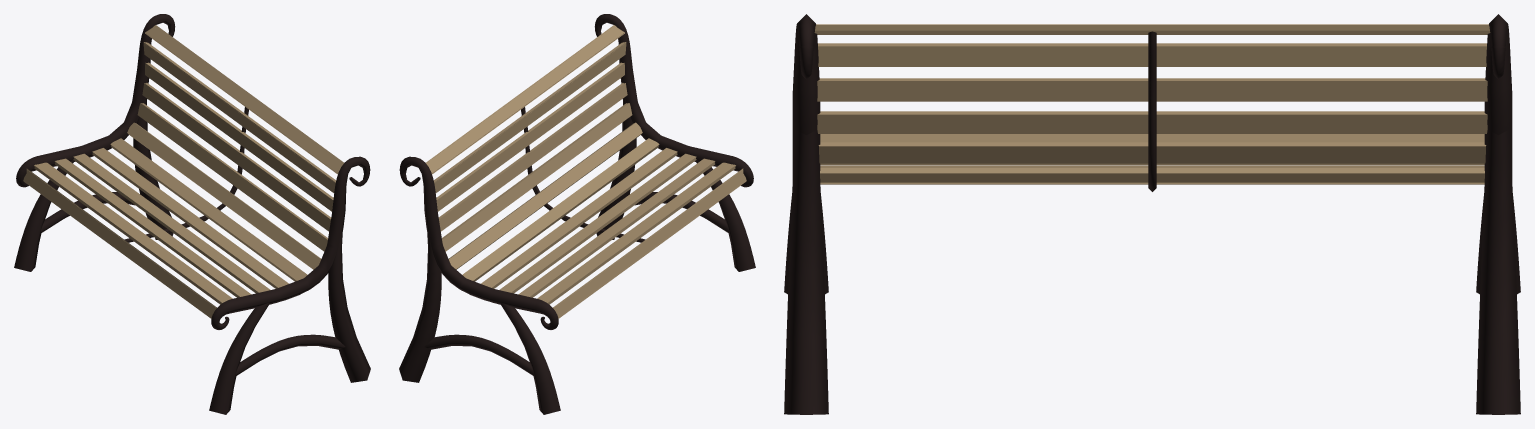
The model's file is bench.glb.
3 views of the same model, side by side, from view 1: azimuth 30°, elevation 25°; view 2: azimuth 150°, elevation 25°; view 3: azimuth 270°, elevation 25° (orthographic). The views are drawn at different scales.
Visible parts, largest first — view 1: parkBench.001, parkBench, Cube.001, BezierCurve.010; view 2: parkBench.001, parkBench, Cube.001; view 3: parkBench.001, parkBench, BezierCurve.010.
Boxes of the visible parts, left/top/right/bottom form: parkBench.001: left=16, top=17, right=370, bottom=414; parkBench: left=14, top=14, right=370, bottom=414; Cube.001: left=34, top=162, right=231, bottom=304; BezierCurve.010: left=340, top=281, right=370, bottom=376; parkBench.001: left=399, top=17, right=753, bottom=414; parkBench: left=399, top=14, right=755, bottom=414; Cube.001: left=538, top=162, right=735, bottom=304; parkBench.001: left=784, top=14, right=1520, bottom=414; parkBench: left=784, top=14, right=1520, bottom=402; BezierCurve.010: left=784, top=221, right=827, bottom=414.
Size of the model in its own units: 11.15 by 14.81 by 24.78.
